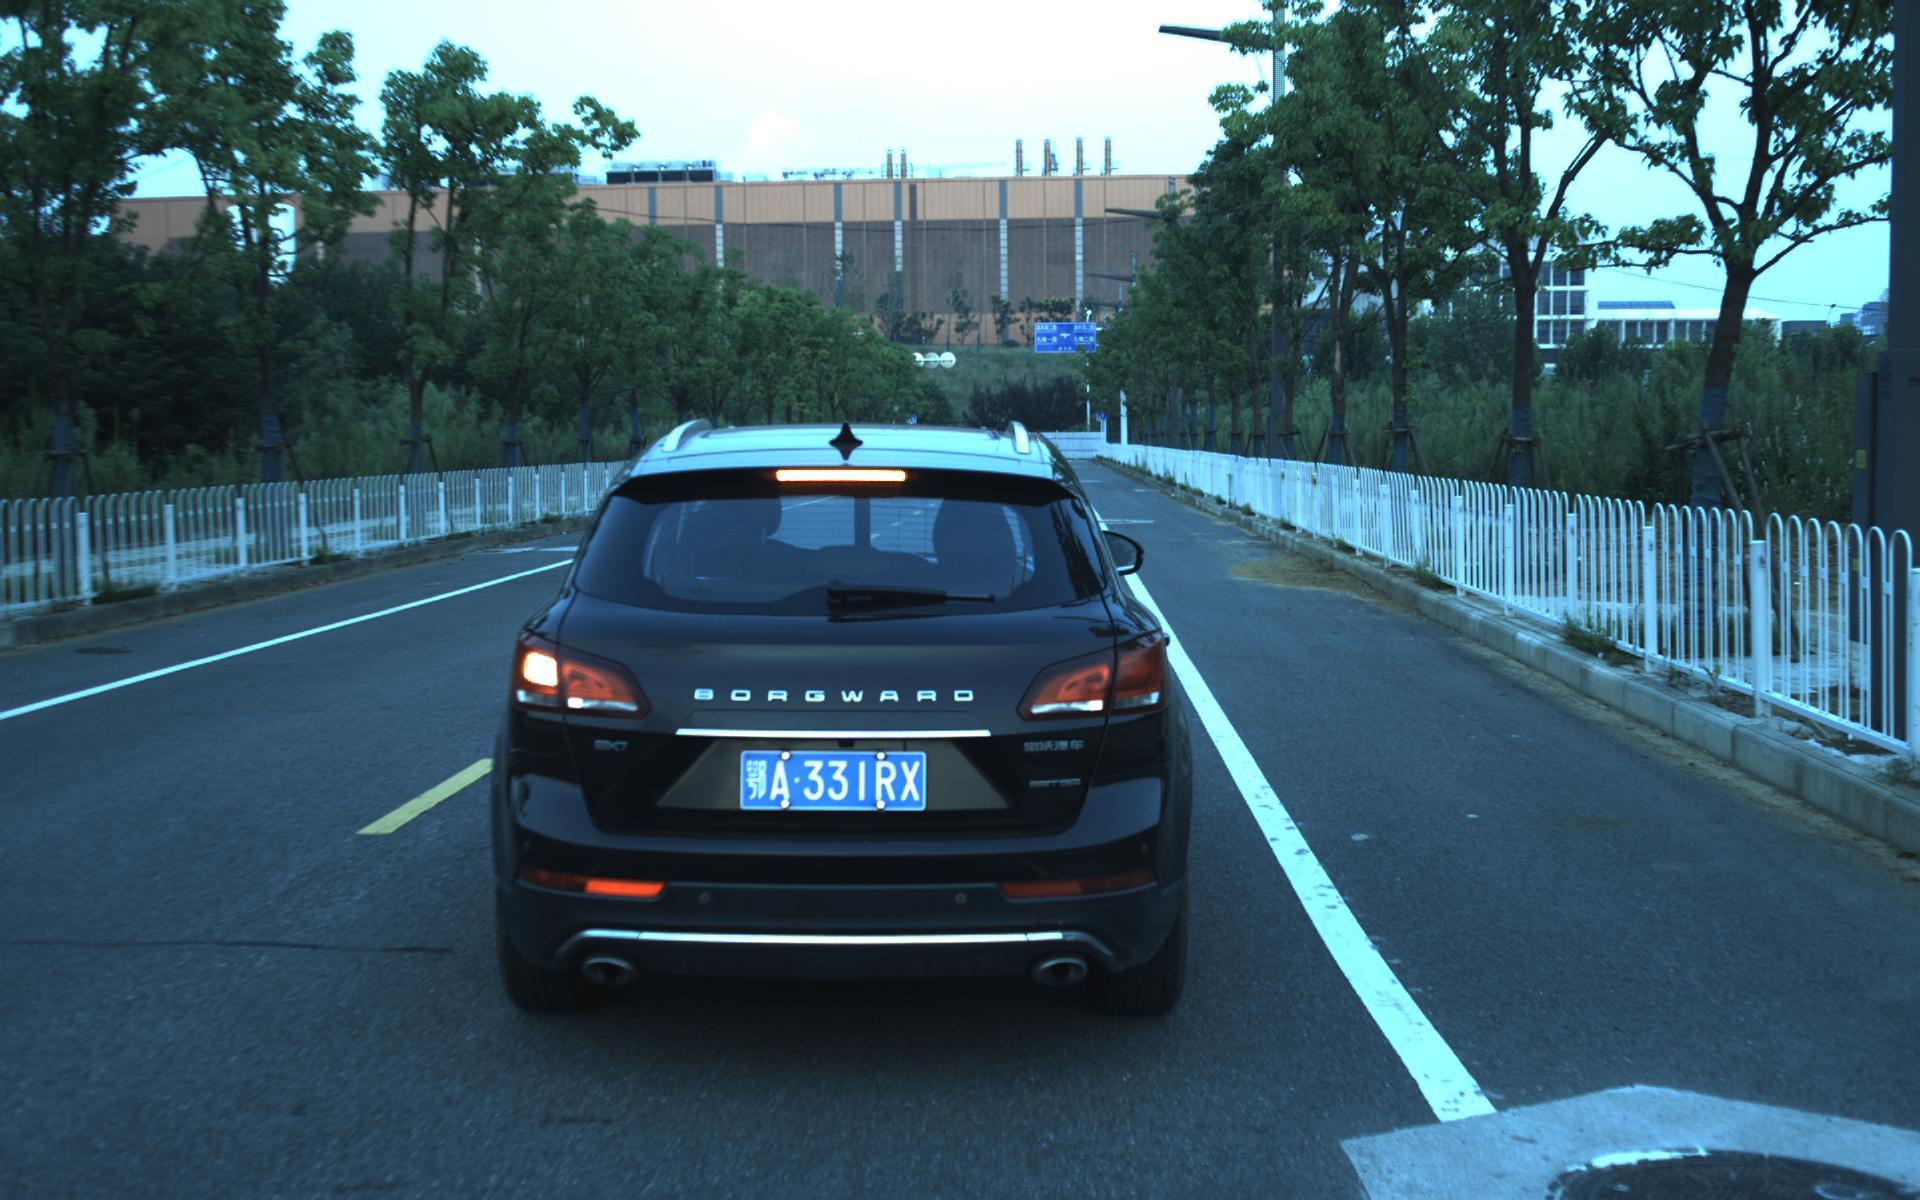Car: (476, 384, 1198, 1040)
